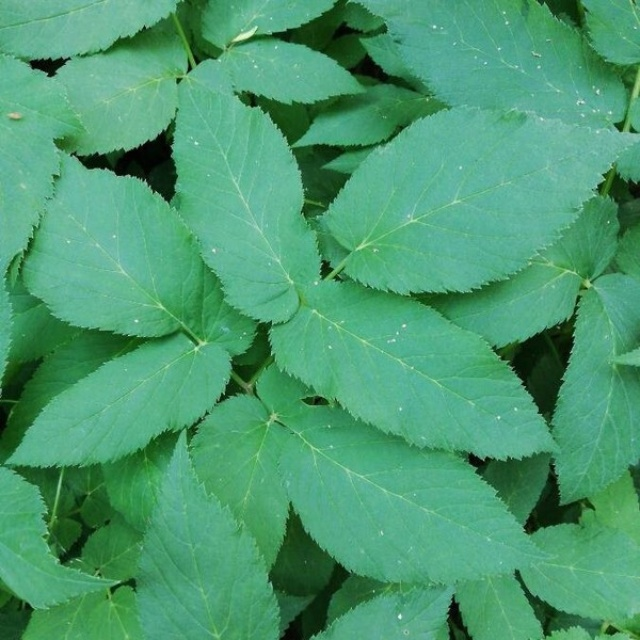obstacle: (41, 71, 580, 625)
